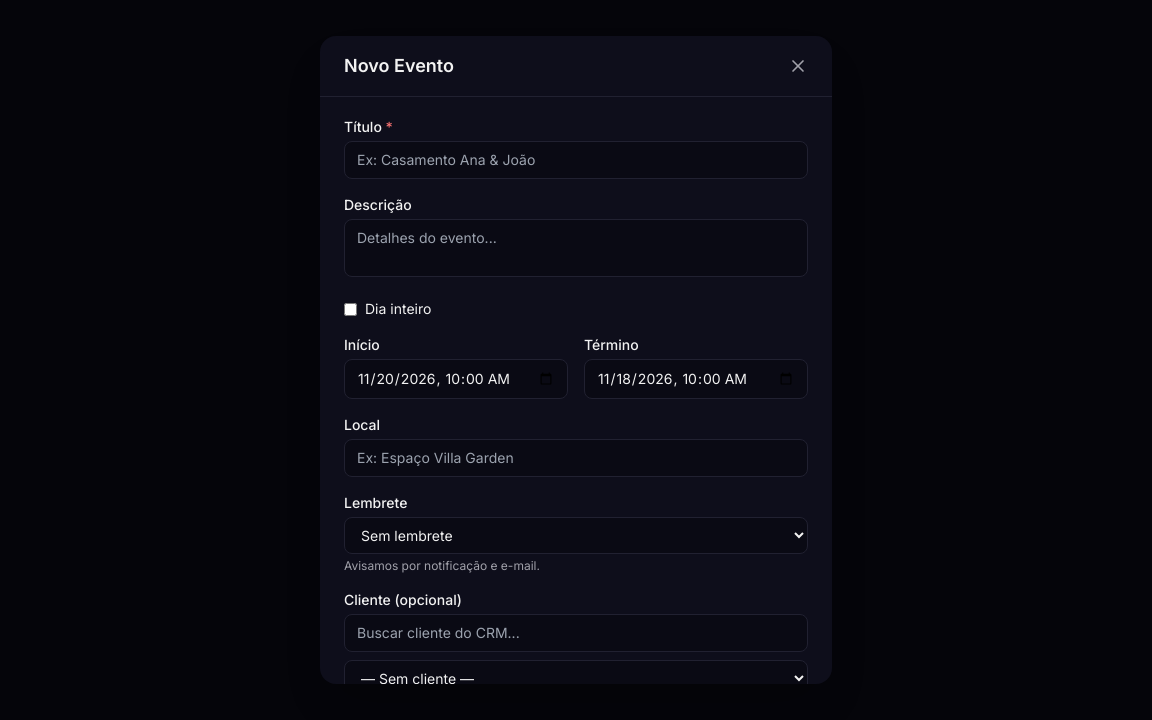
Test: Dia inteiro › término num dia ANTERIOR continua sendo recusado
This screenshot has width=1152, height=720.
Step 1. Click the checkbox labelled "Dia inteiro" → [350, 309], box [344,302,357,316]
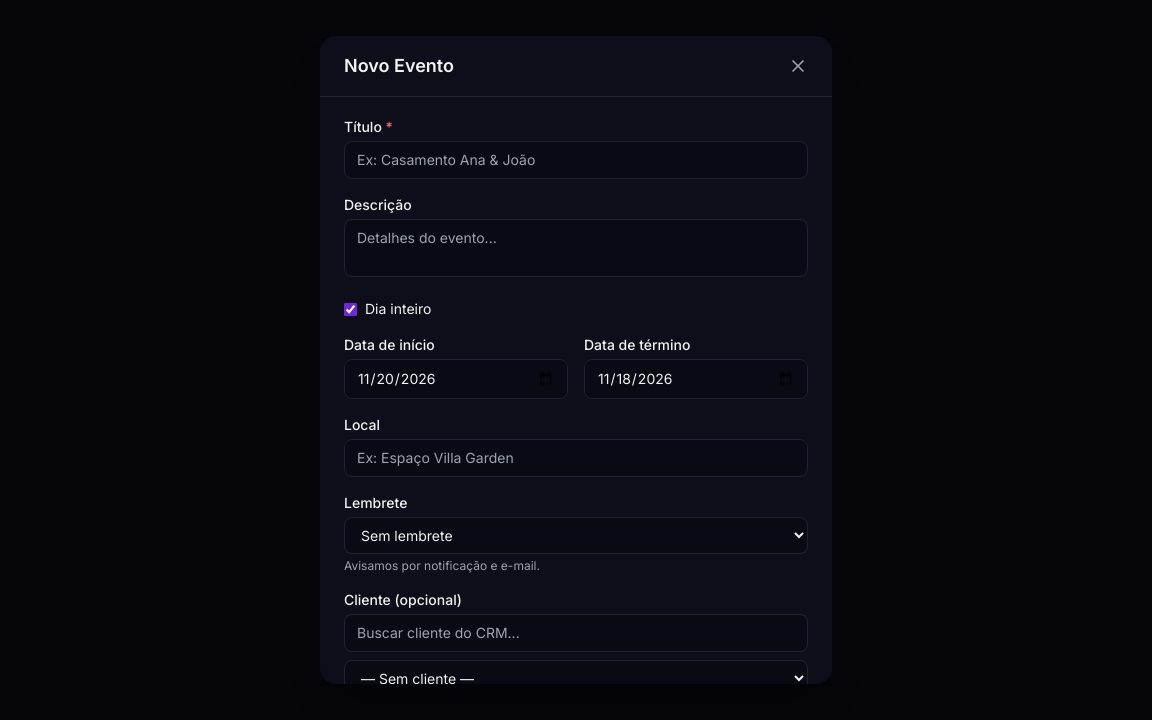
Step 2. Type "Viagem impossível" into the field with placeholder "Ex: Casamento Ana & João" → [576, 160], box [344,141,808,179]
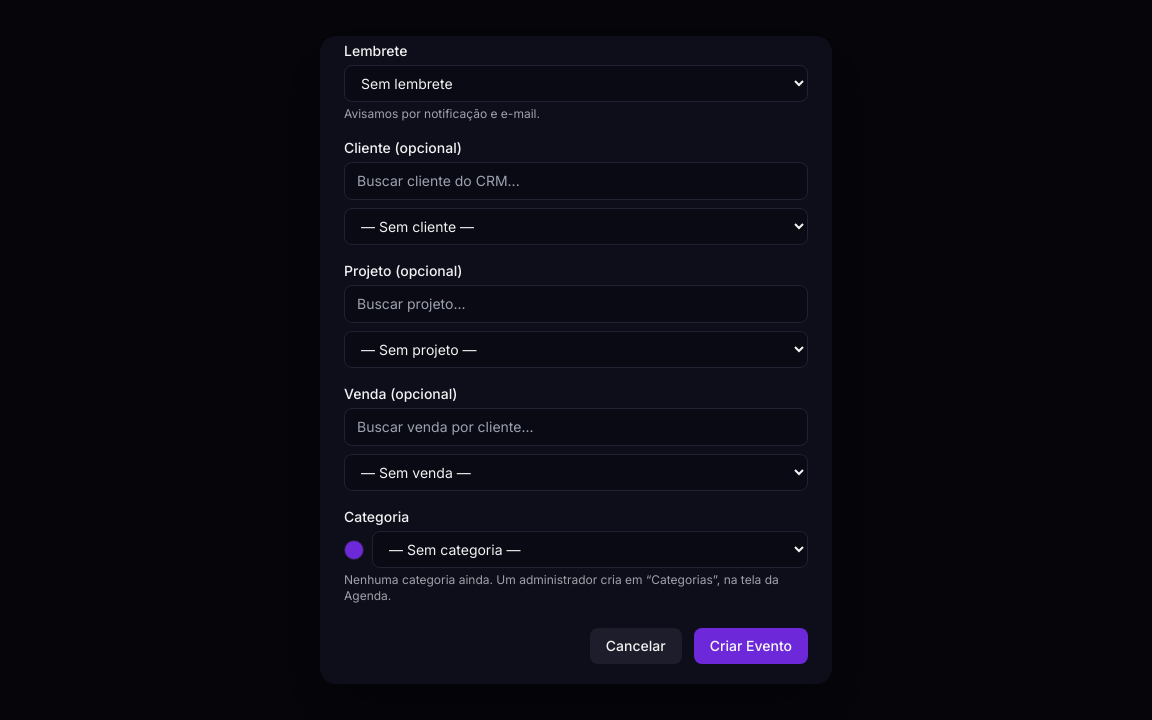
Step 3. Click the button "Criar Evento" → [751, 646], box [694,628,808,664]
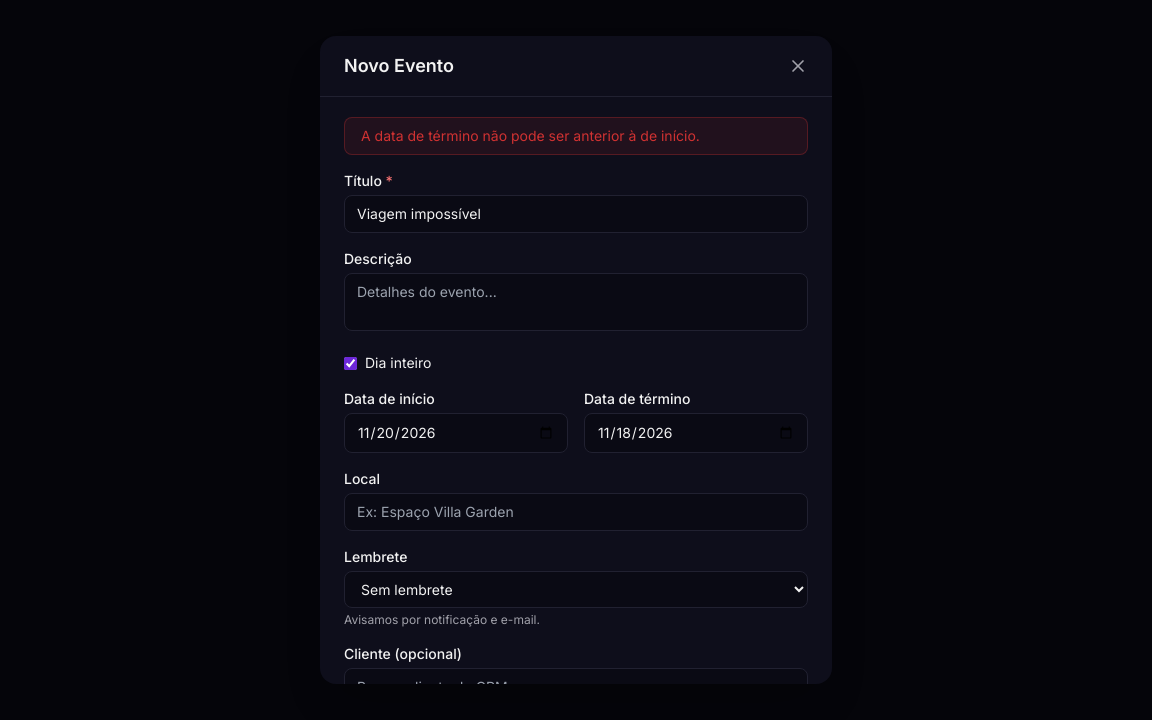
Result: the text "A data de término não pode ser anterior à de início." is shown at [344,117,808,155]
